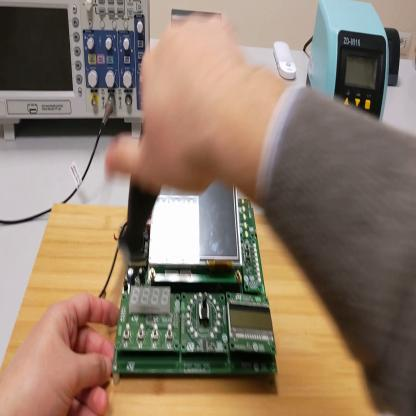hand: (109, 14, 247, 202), (3, 290, 121, 414)
low voltage board: (100, 192, 278, 371)
oscilloscope: (2, 2, 150, 142)
screwdriver-: (108, 183, 162, 350)
socket: (385, 29, 402, 87)
welder station: (306, 2, 390, 125)
working area: (2, 202, 379, 415)
